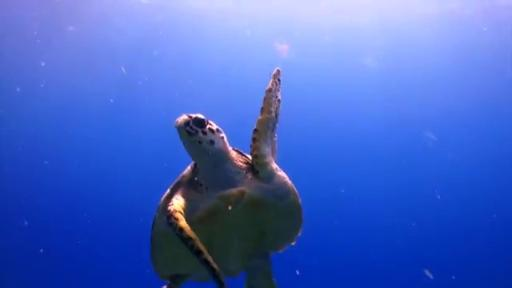Fish: (151, 68, 303, 287)
